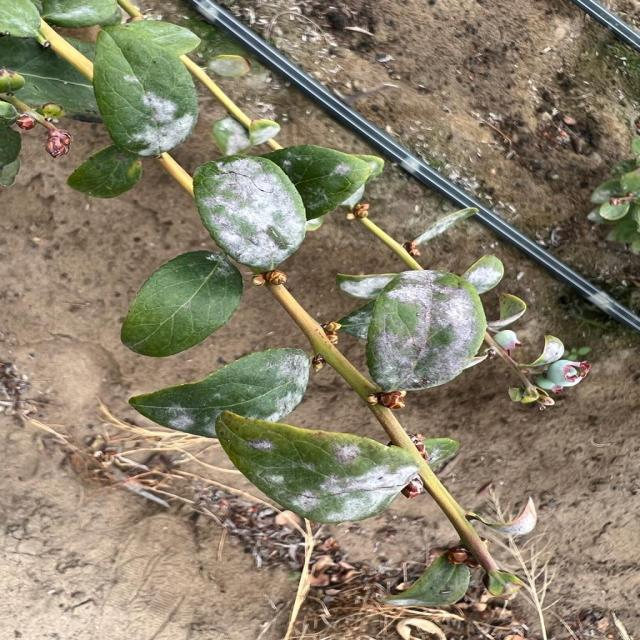Hojas con oidiosis: (212, 408, 428, 524), (362, 268, 489, 395), (91, 23, 202, 155), (188, 152, 308, 274), (116, 250, 246, 358)
